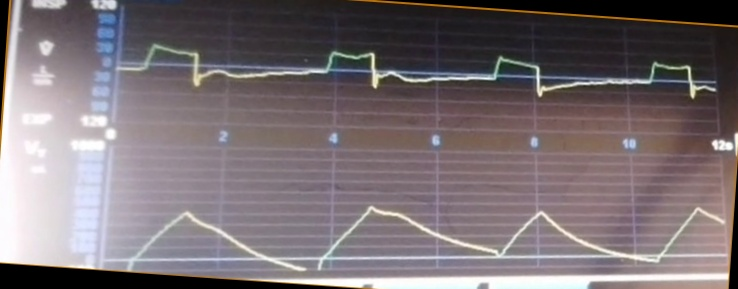Premature_cycling Flow: (123, 32, 716, 125)
Premature_cycling Volume: (118, 181, 724, 270)
